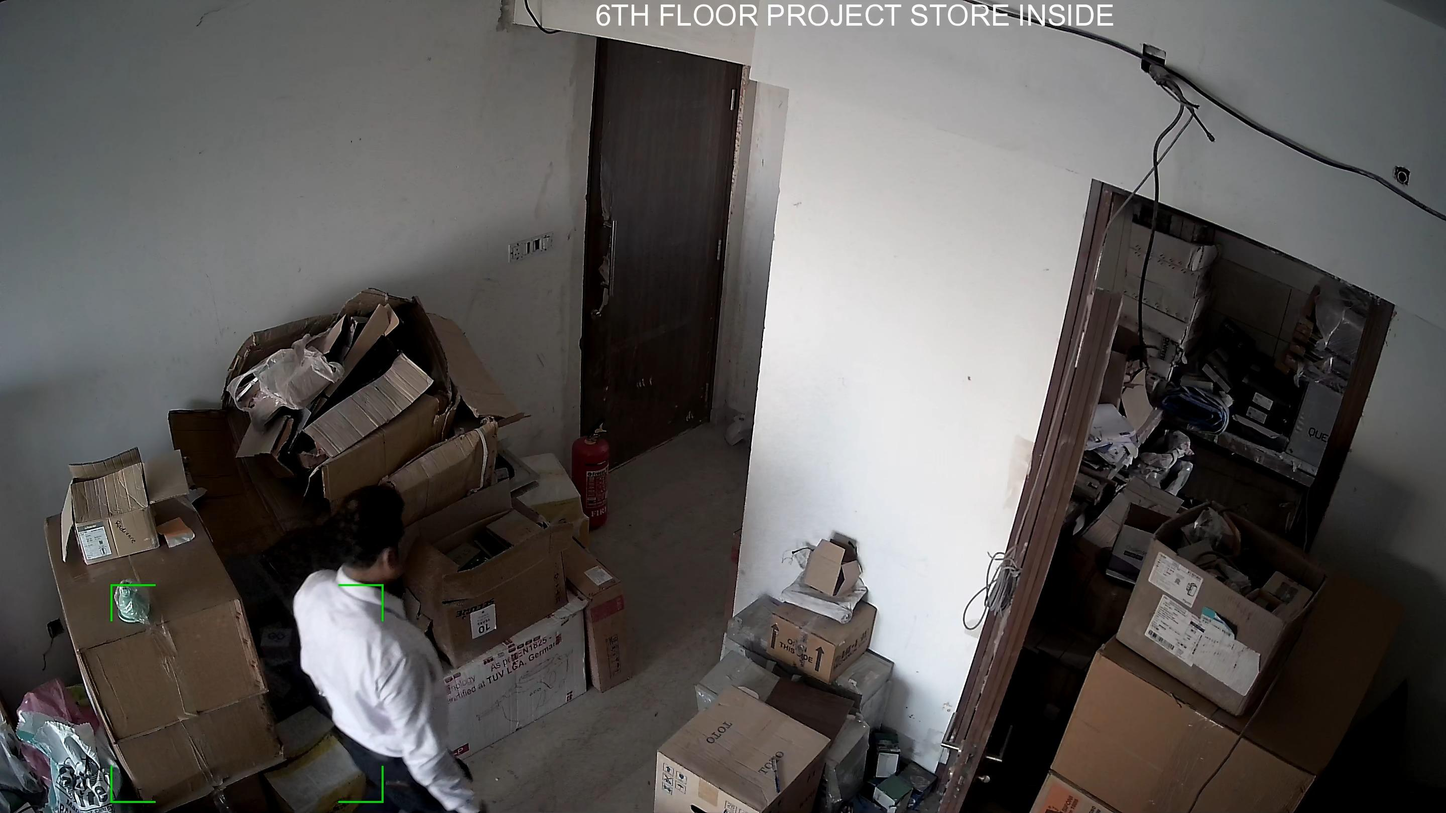Door-Close: (555, 19, 762, 484)
